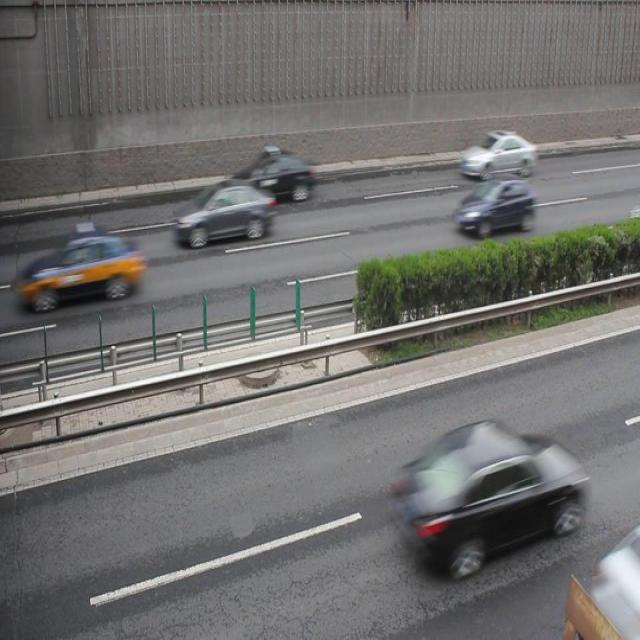car: (390, 418, 585, 572), (22, 227, 145, 311), (172, 176, 274, 248), (452, 170, 534, 234), (228, 149, 314, 203), (457, 127, 536, 180)
